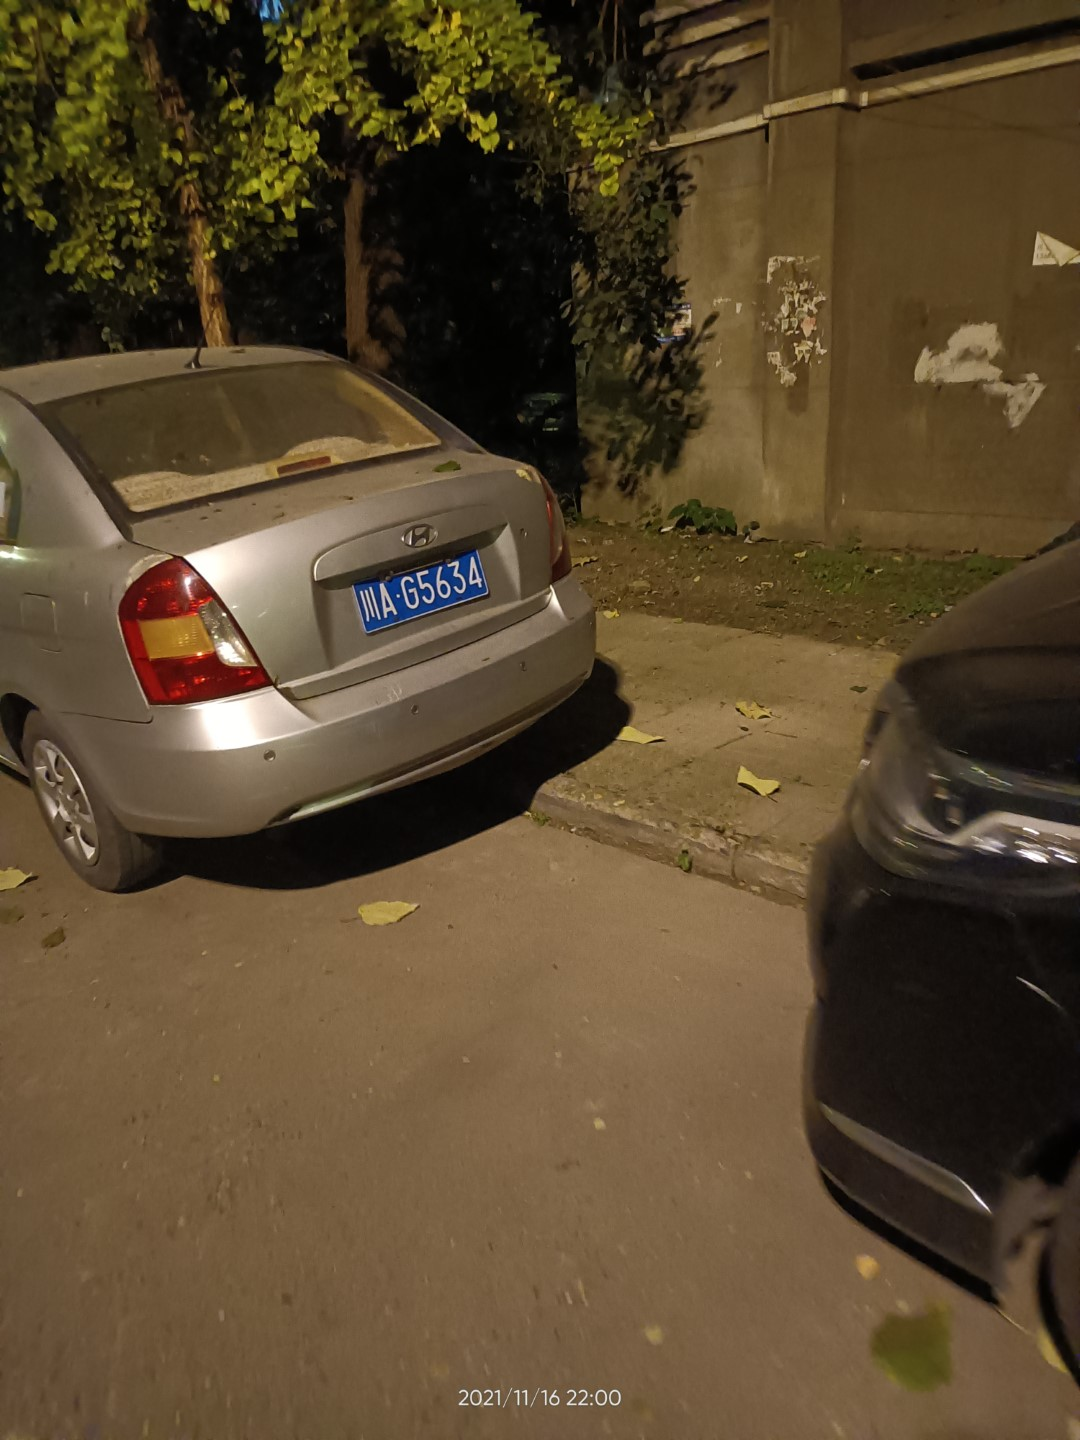plate: (351, 545, 489, 634)
